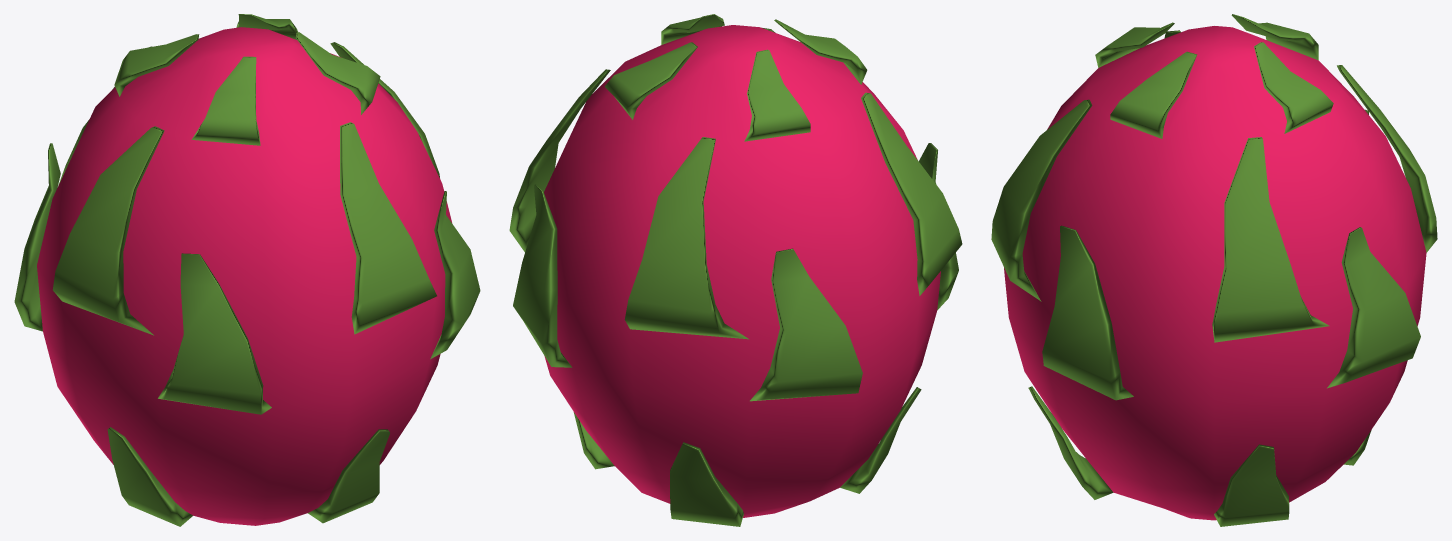
File: dragon_fruit.fbx
3 views of the same model, side by side, from view 1: azimuth 30°, elevation 25°; view 2: azimuth 150°, elevation 25°; view 3: azimuth 270°, elevation 25° (orthographic).
Parts seen in each view (by area): view 1: dragon_fruit; view 2: dragon_fruit; view 3: dragon_fruit.
Part boxes in pixels (x1,y1,x2,y2): dragon_fruit: (14,14,480,526); dragon_fruit: (509,14,962,526); dragon_fruit: (991,14,1437,526).
Size of the model in its own units: 309 by 351 by 309.
